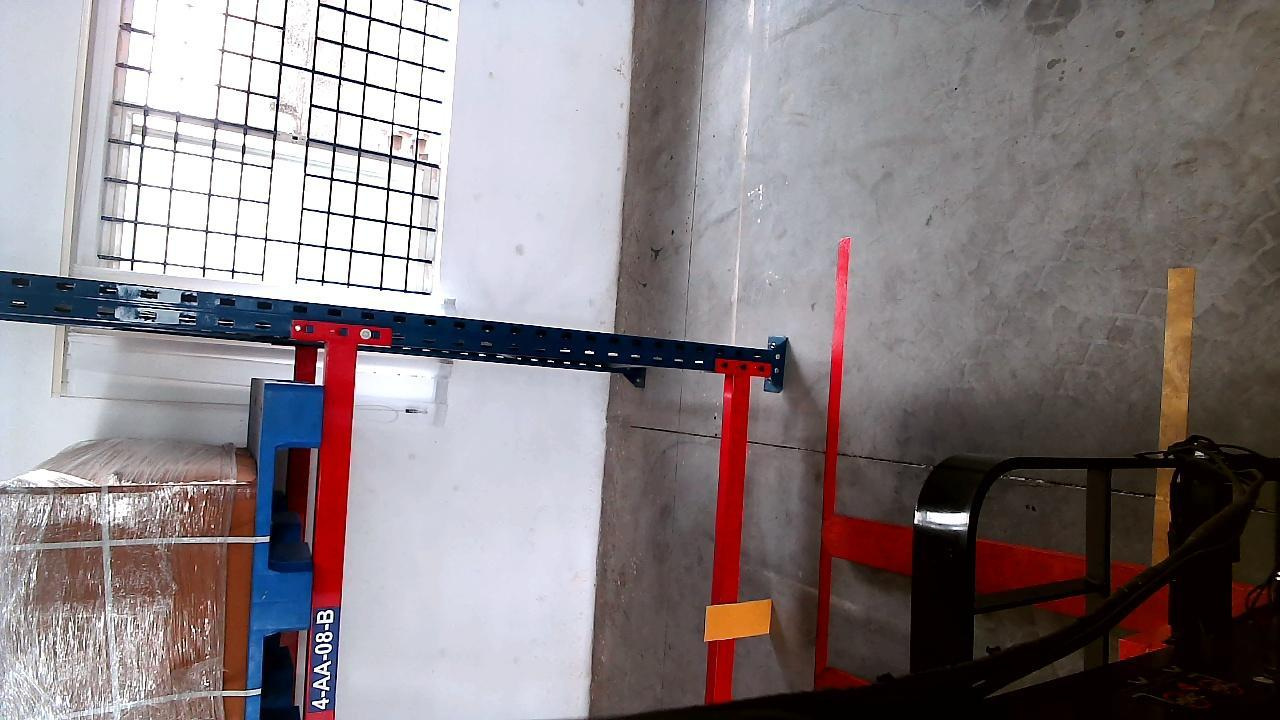red_line: (811, 238, 852, 681)
yellow_line: (1143, 266, 1193, 565)
